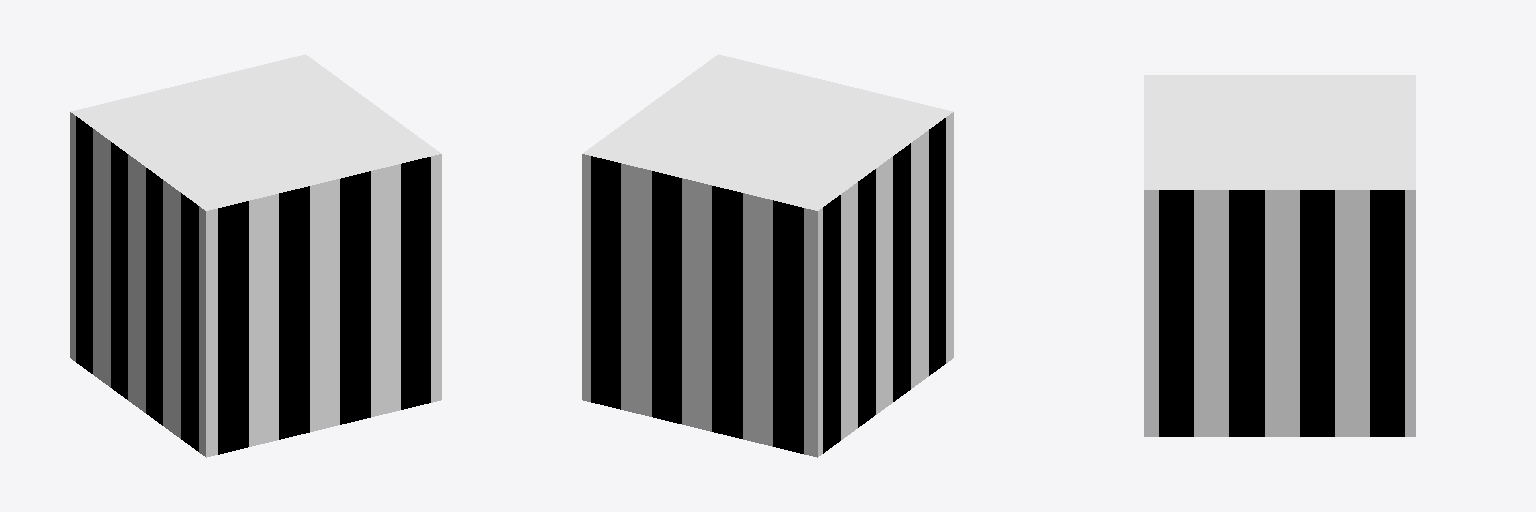
The picture shows the model from 3 angles: view 1: azimuth 30°, elevation 25°; view 2: azimuth 150°, elevation 25°; view 3: azimuth 270°, elevation 25°; orthographic projection.
Visible parts, largest first — view 1: c2; view 2: c2; view 3: c2.
Part boxes in pixels (bbox=[...]): c2: bbox=[70, 54, 441, 457]; c2: bbox=[582, 54, 953, 457]; c2: bbox=[1144, 75, 1415, 436].
Bounding box in the file's own units: 2 × 2 × 2.
Materials: 1 (1 with a texture image).